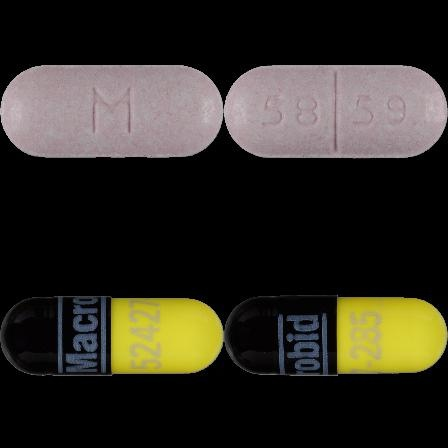43063-581: (0, 0, 224, 224)
